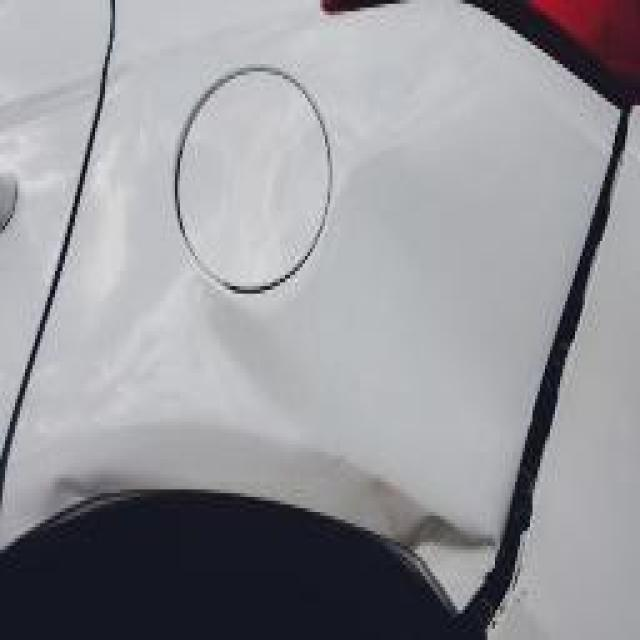Fender: (48, 41, 640, 640)
